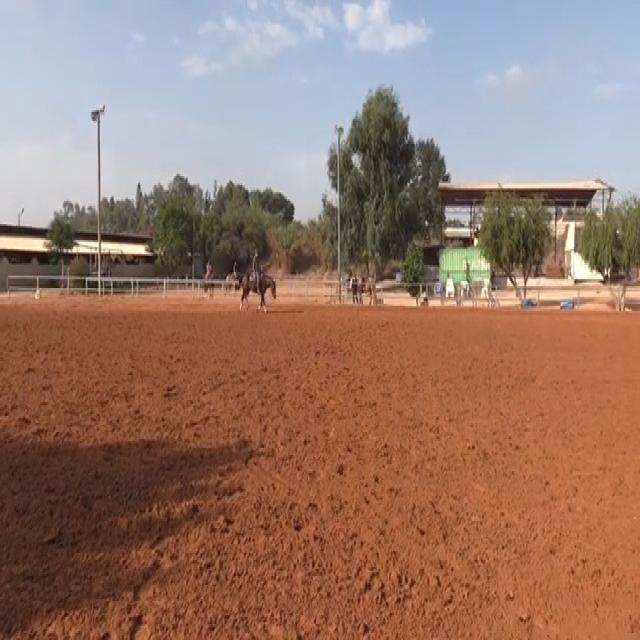horse: (232, 263, 278, 315)
